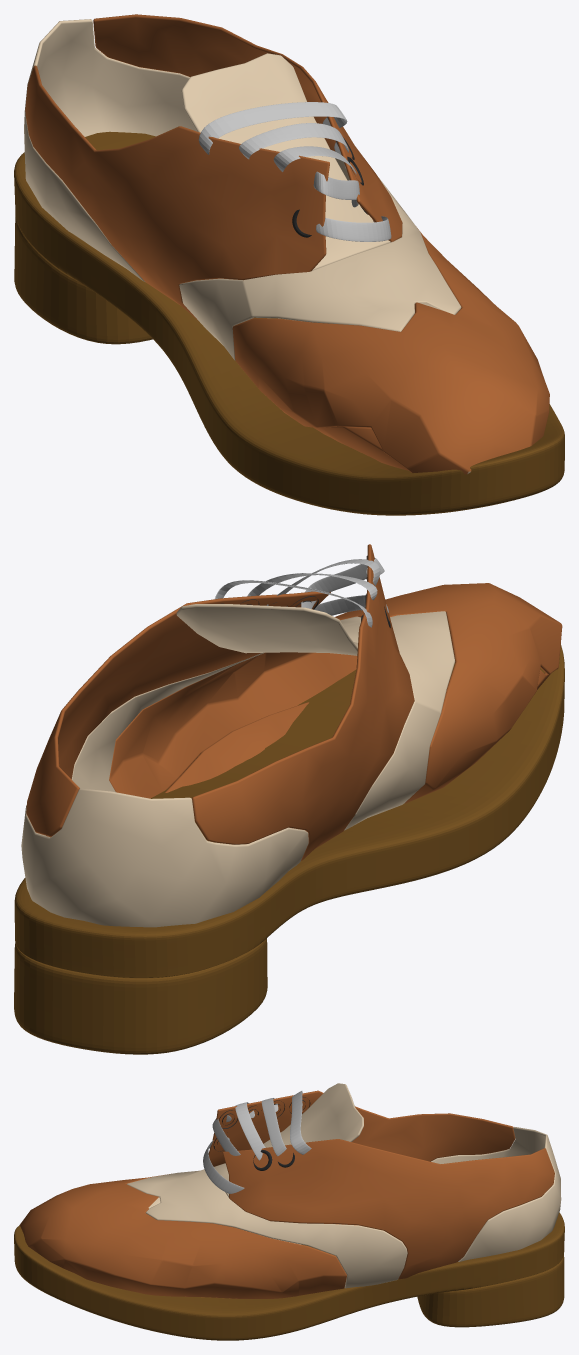
File: za2in3izquierda.fbx
3 views of the same model, one above another, from view 1: azimuth 30°, elevation 25°; view 2: azimuth 150°, elevation 25°; view 3: azimuth 270°, elevation 25° (orthographic). The views are drawn at different scales.
Visible parts, largest first — view 1: zapato2, Plane, Plane.004, Plane.003, Plane.005, Plane.002, Plane.001; view 2: zapato2, Plane, Plane.002, Plane.003, Plane.005, Plane.004; view 3: zapato2, Plane, Plane.001, Plane.003, Plane.004, Plane.005, Plane.002.
Boxes of the visible parts, <box> form: zapato2: <box>24,14,549,474</box>; Plane: <box>14,131,564,515</box>; Plane.004: <box>198,102,347,154</box>; Plane.003: <box>239,123,348,159</box>; Plane.005: <box>316,216,391,241</box>; Plane.002: <box>313,171,359,207</box>; Plane.001: <box>273,146,356,174</box>; zapato2: <box>21,544,562,927</box>; Plane: <box>14,626,564,1054</box>; Plane.002: <box>301,558,384,608</box>; Plane.003: <box>247,573,377,610</box>; Plane.005: <box>314,595,388,615</box>; Plane.004: <box>215,580,372,627</box>; zapato2: <box>19,1083,561,1298</box>; Plane: <box>14,1209,564,1340</box>; Plane.001: <box>235,1102,265,1160</box>; Plane.003: <box>261,1098,286,1156</box>; Plane.004: <box>290,1091,311,1154</box>; Plane.005: <box>203,1137,244,1193</box>; Plane.002: <box>212,1115,240,1155</box>.
Bounding box in the file's own units: 169 × 176 × 447.
